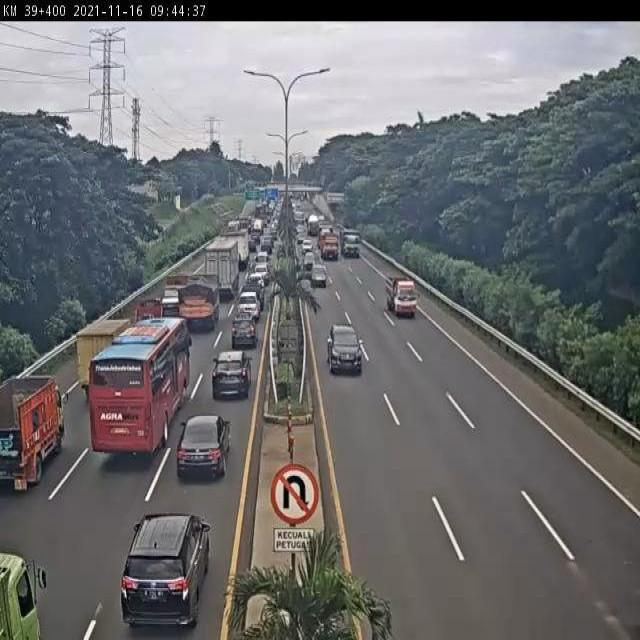big bus: (91, 316, 190, 456)
car: (120, 509, 214, 631), (174, 418, 229, 486), (210, 353, 251, 404), (324, 325, 364, 376), (229, 320, 256, 355), (237, 291, 259, 321), (242, 284, 265, 307), (310, 264, 327, 289), (247, 270, 266, 290)
small truck: (76, 316, 133, 407), (123, 298, 163, 342), (156, 272, 191, 321), (385, 276, 420, 319)
truck-l-: (201, 242, 241, 298)
truck-m-: (0, 371, 65, 497), (179, 276, 220, 329)
